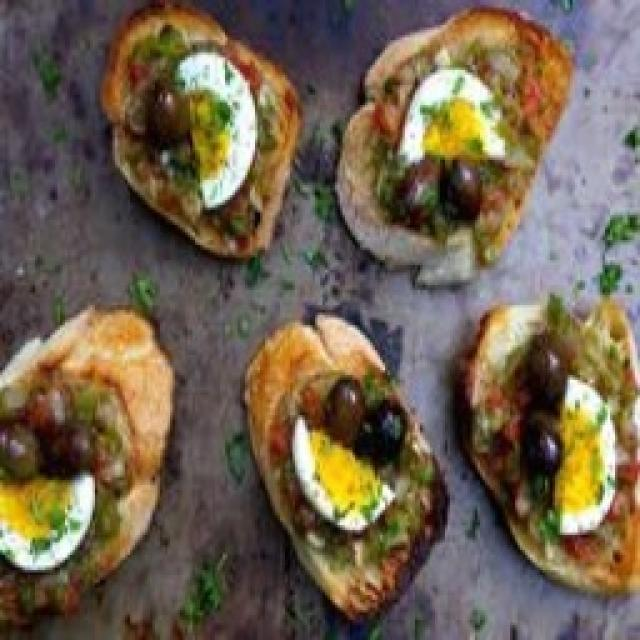Salade mechweya: (335, 10, 569, 286), (244, 311, 446, 619), (455, 264, 640, 594), (0, 309, 174, 624), (104, 5, 300, 258)
